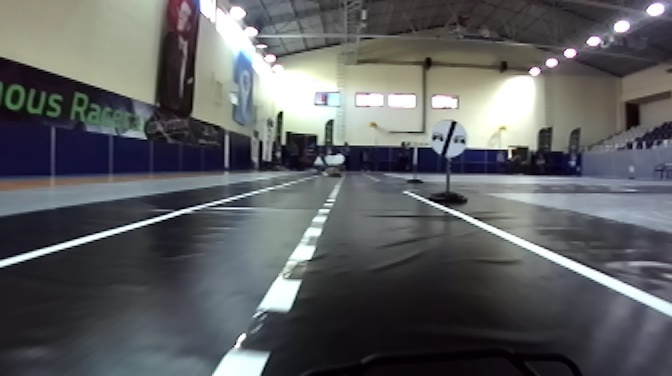sollama_serbest: (427, 118, 468, 158)
